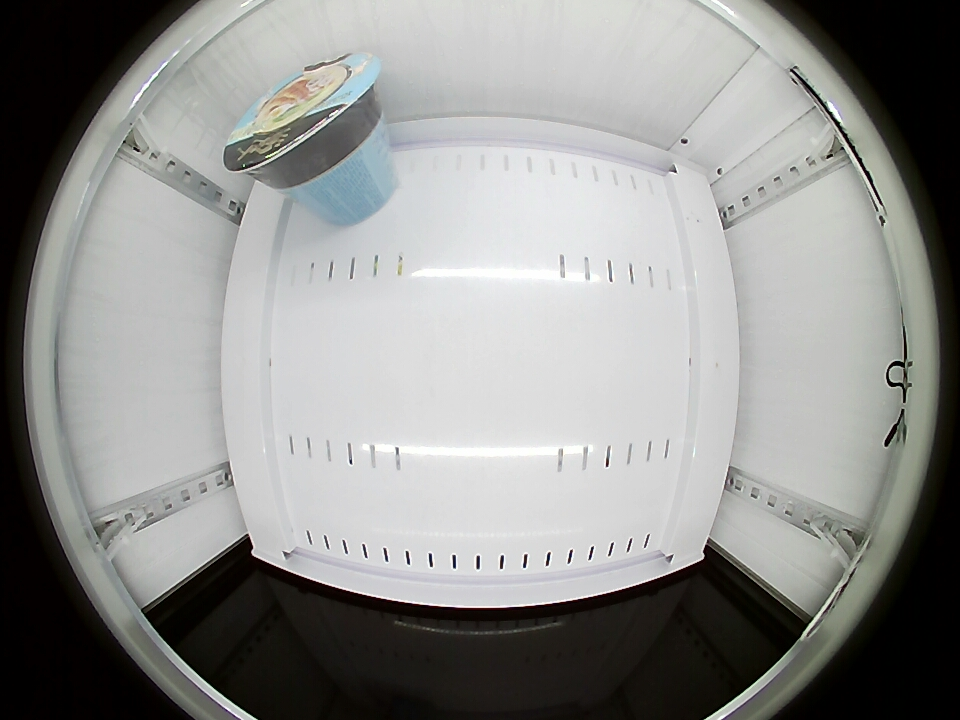tangdaren3: (223, 51, 383, 188)
